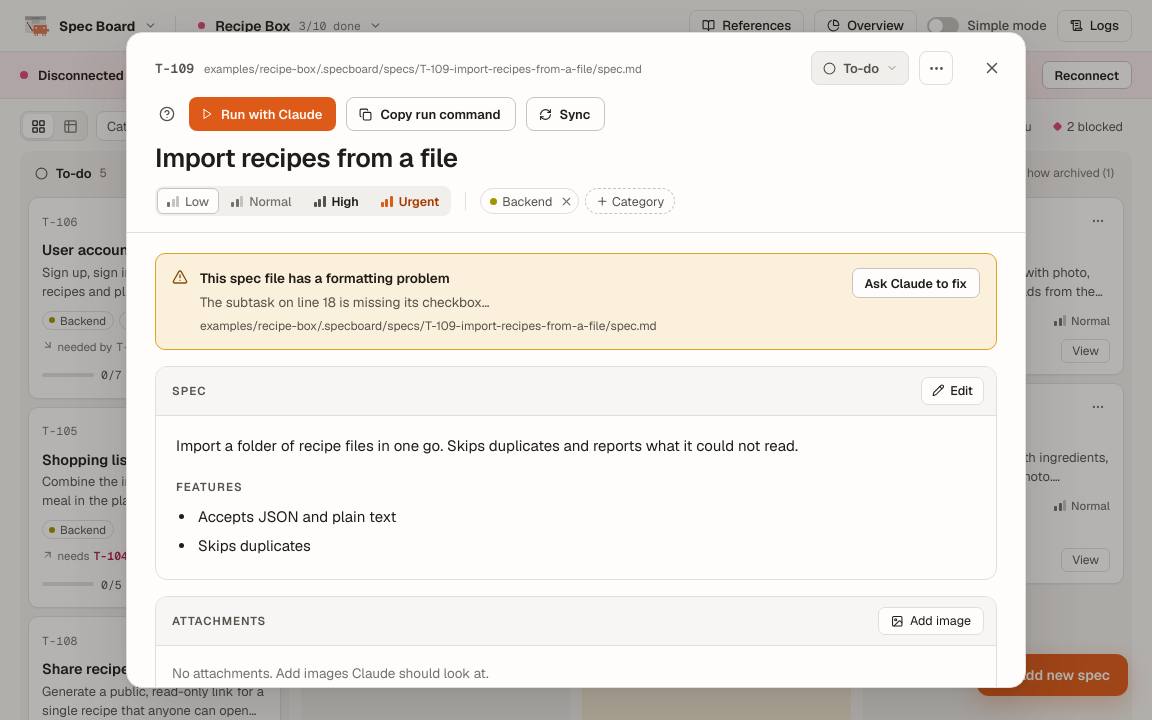
Test: refusals › Ask Claude to fix while disconnected: the offline toast and no request
Click the button "Ask Claude to fix" at [916, 283], box 852,268 -> 980,298
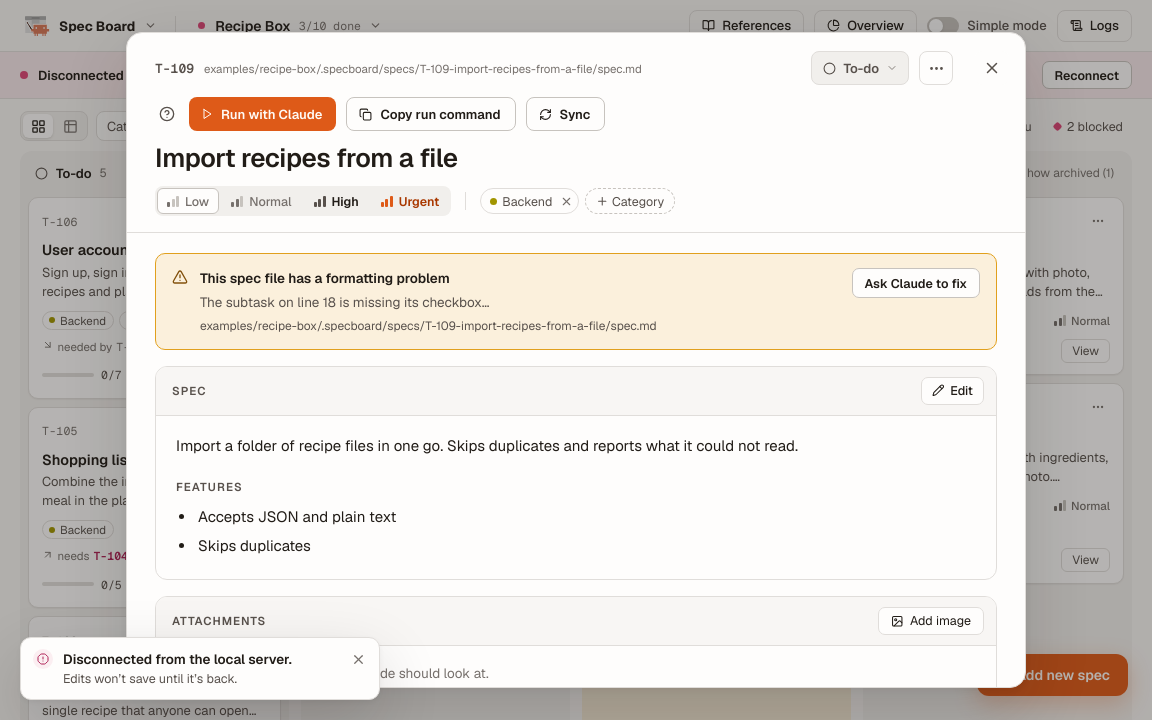
Expected: the text "Edits won’t save until it’s back." is shown once, 63,670 -> 237,687
